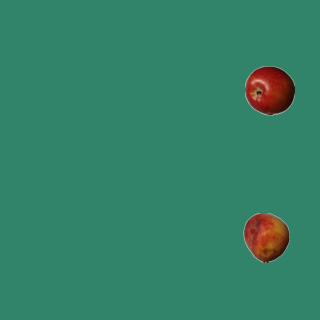Apple Braeburn: (244, 65, 294, 115)
Peach: (241, 212, 291, 262)
